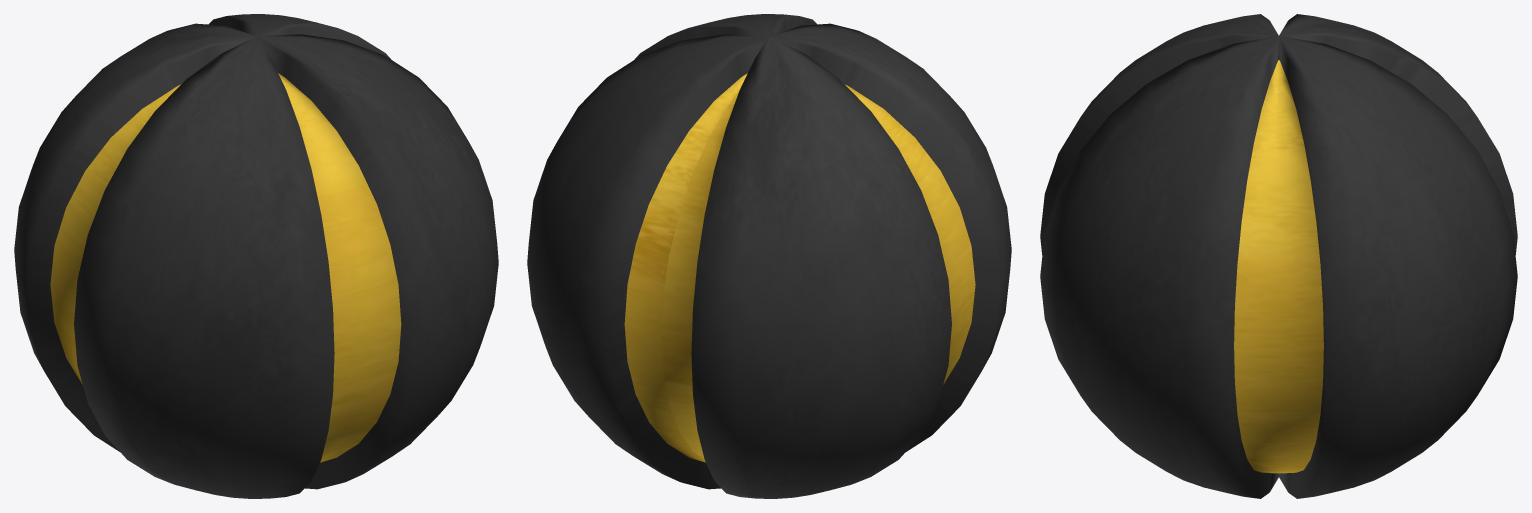
Rendered from Ball.FBX.
3 renders of one model, left to right at view 1: azimuth 30°, elevation 25°; view 2: azimuth 150°, elevation 25°; view 3: azimuth 270°, elevation 25°, orthographic.
Parts seen in each view (by area): view 1: Sphere001; view 2: Sphere001; view 3: Sphere001.
Boxes of the visible parts, <box> form: Sphere001: <box>14,14,498,498</box>; Sphere001: <box>527,14,1011,498</box>; Sphere001: <box>1040,14,1517,498</box>.
Size of the model in its own units: 0.6848 by 0.6848 by 0.6982.
